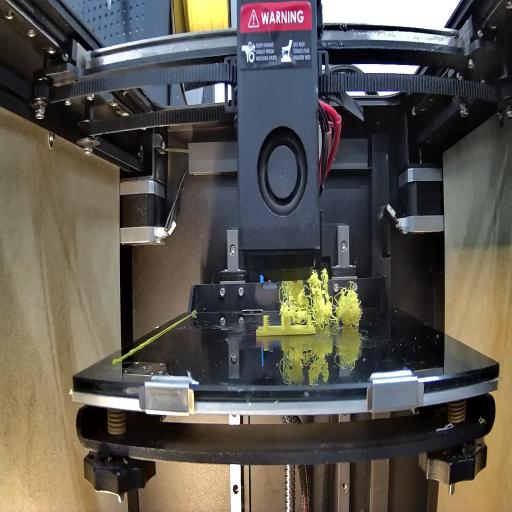spaghetti: (280, 270, 366, 322)
